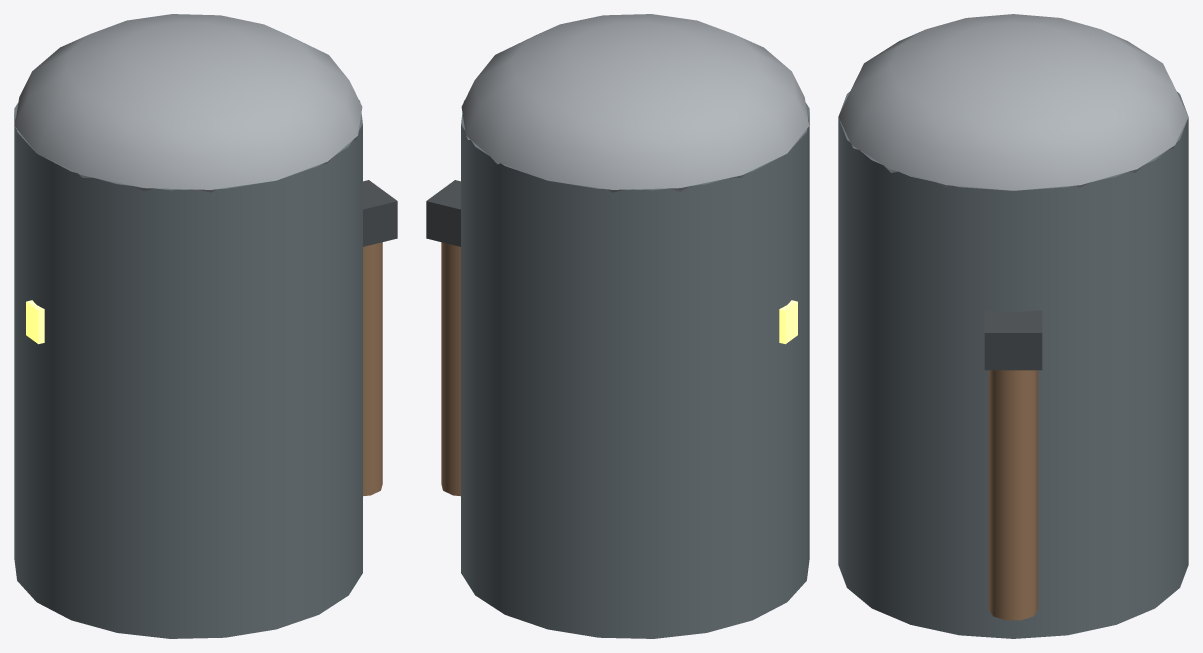
Rendered from storage_tank.glb.
3 renders of one model, left to right at view 1: azimuth 30°, elevation 25°; view 2: azimuth 150°, elevation 25°; view 3: azimuth 270°, elevation 25°, orthographic.
Visible parts, largest first — view 1: Body, Dome, Pipe, Valve, Stripe; view 2: Body, Dome, Pipe, Valve, Stripe; view 3: Body, Dome, Pipe, Valve.
Part boxes in pixels (box(x1,y1,x2,y2)): Body: box(14, 100, 362, 638); Dome: box(15, 14, 362, 192); Pipe: box(363, 242, 382, 496); Valve: box(363, 180, 397, 246); Stripe: box(26, 300, 44, 344); Body: box(461, 100, 809, 638); Dome: box(461, 14, 808, 192); Pipe: box(441, 242, 460, 496); Valve: box(426, 180, 460, 246); Stripe: box(779, 300, 797, 344); Body: box(838, 92, 1188, 638); Dome: box(838, 14, 1188, 190); Pipe: box(988, 370, 1038, 620); Valve: box(984, 310, 1042, 370).
Size of the model in its own units: 1.97 by 2.78 by 1.7.
